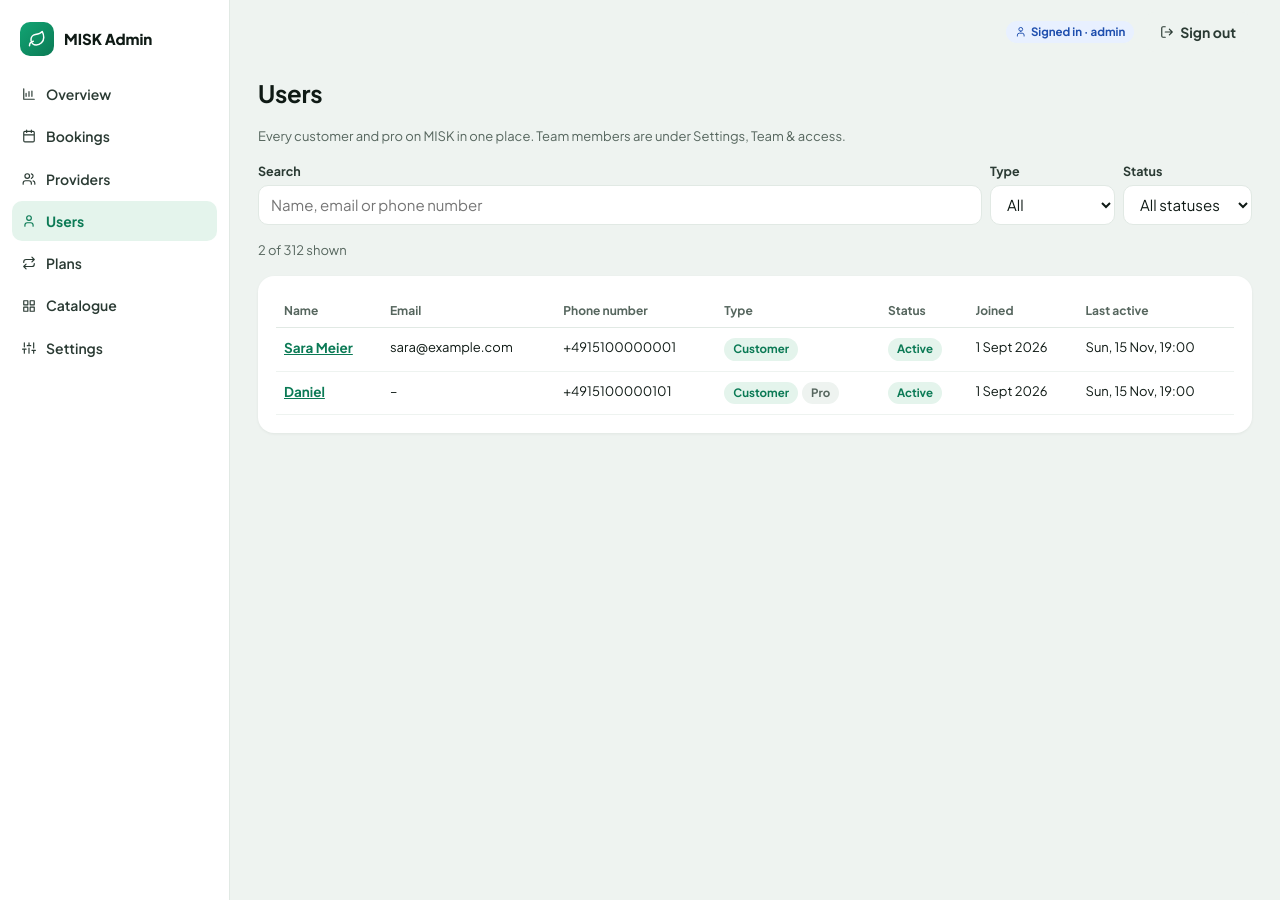
Scenario: the Users page (D65) › searches and filters, and says how many are shown
expect the table is shown: met, box left=276, top=294, right=1234, bottom=415
In the search field labelled "Search": (620, 205) left=258, top=185, right=982, bottom=225, type "sara"
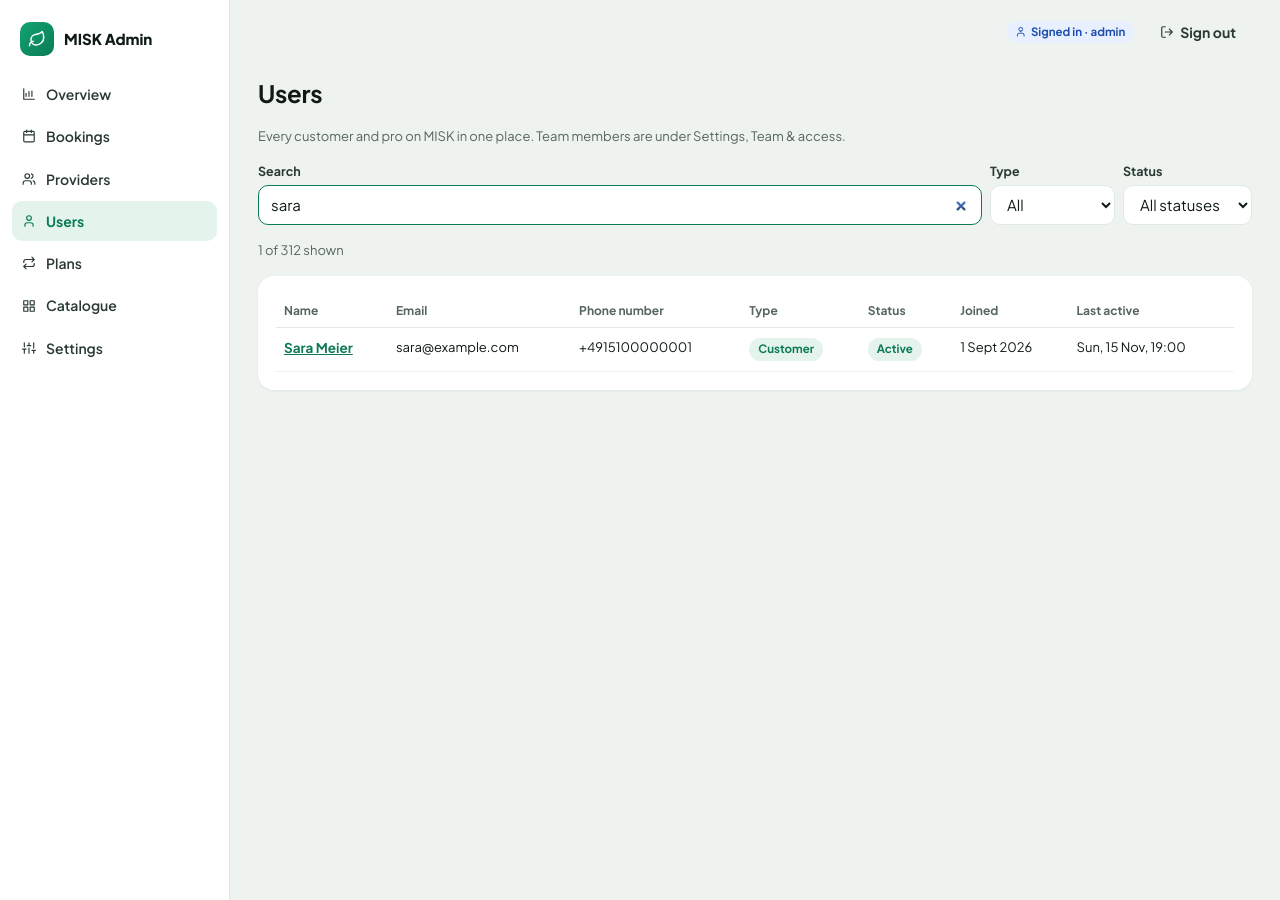
expect the message reads "1 of 312 shown": met, box left=258, top=242, right=344, bottom=258
Clear the search field labelled "Search": (620, 205) left=258, top=185, right=982, bottom=225
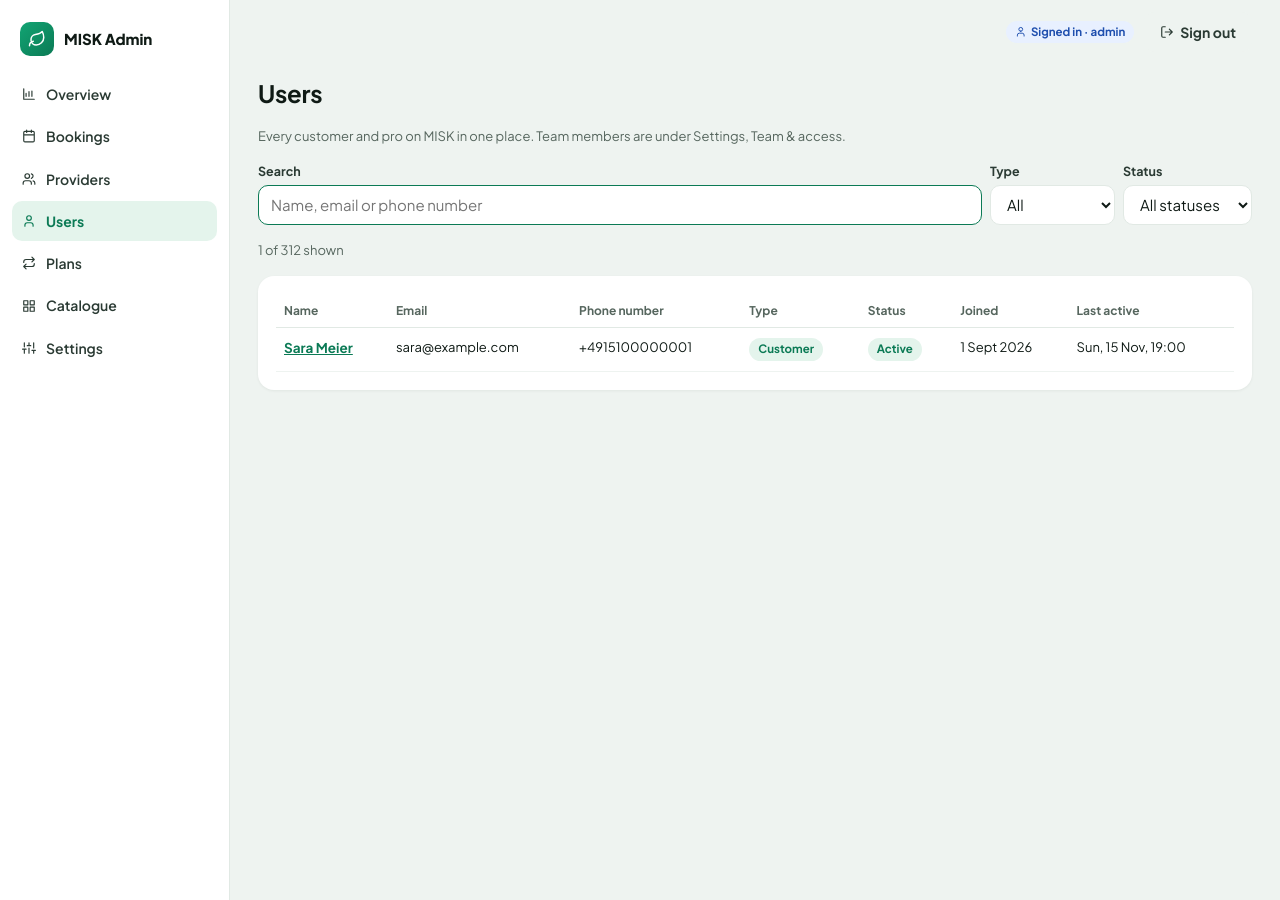
Select "Pros" in the dropdown labelled "Type": (1052, 205) left=990, top=185, right=1115, bottom=225
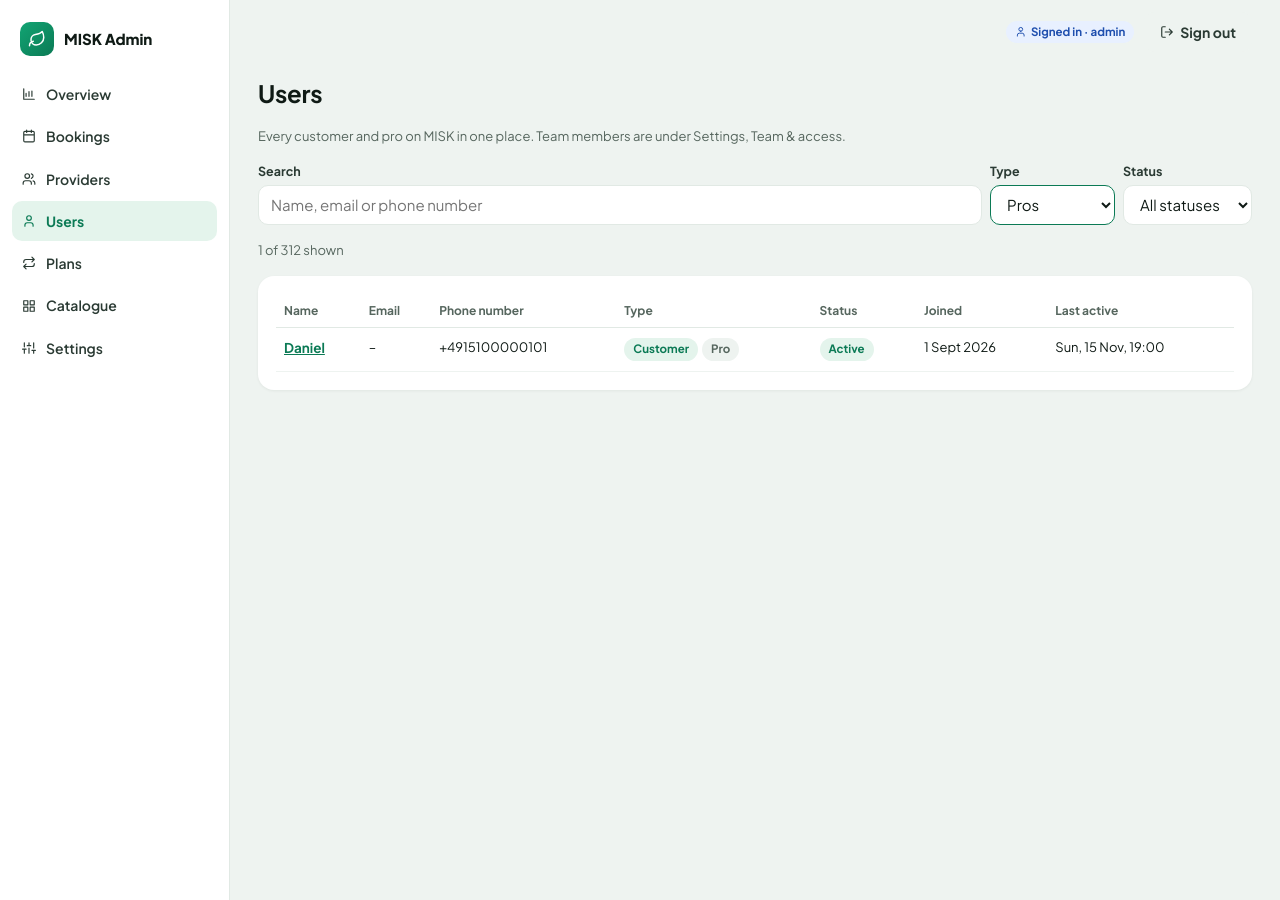
expect the number of rows is 2: met, box left=276, top=294, right=1234, bottom=328; left=276, top=328, right=1234, bottom=371
expect the button "Daniel" is shown: met, box left=284, top=338, right=325, bottom=358
